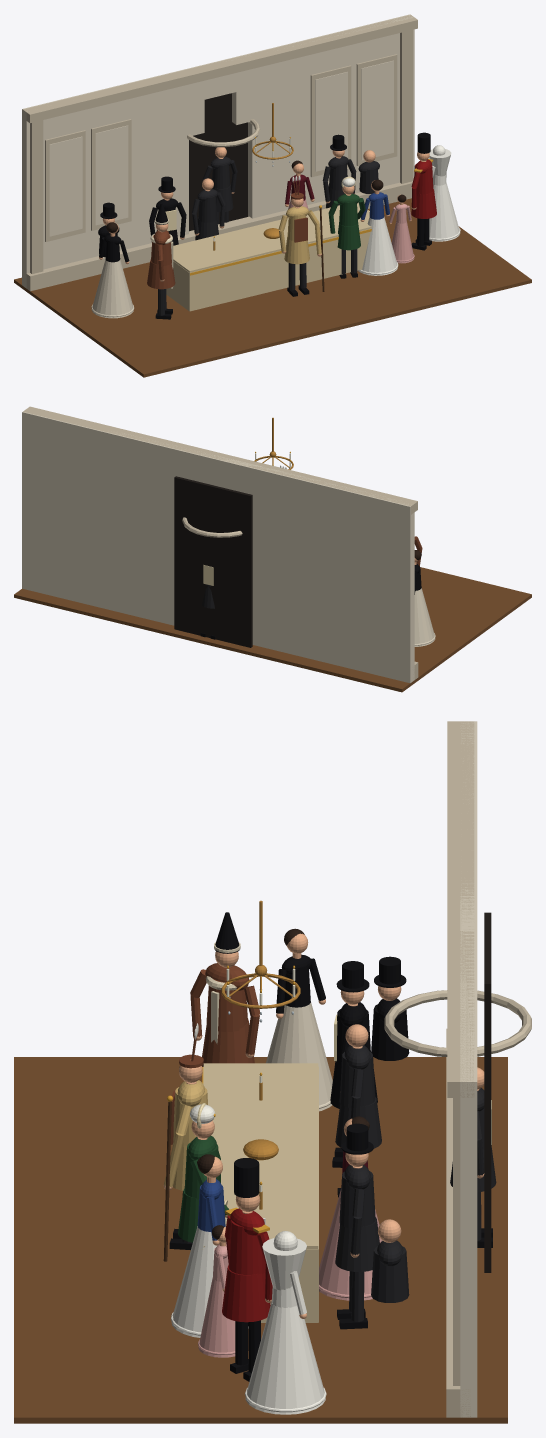
File: scan-fig61-at-the-opera-muse.glb
The picture shows the model from 3 angles, top to bottom: view 1: azimuth 30°, elevation 25°; view 2: azimuth 150°, elevation 25°; view 3: azimuth 270°, elevation 25°; orthographic projection. The views are drawn at different scales.
Parts seen in each view (by area): view 1: Floor, BackWallL, BackWallR, Cornice, TableClothFront, TableClothTop, ArchDark, Skirting, PanelIn_0, PanelIn_3, PanelIn_1, PanelIn_2 (+22 smaller); view 2: BackWallL, BackWallR, ArchDark, Floor, Cornice, BackWallTopC, LeftWoman_skirt, ArchTrim; view 3: Floor, TableClothTop, Cornice, BackWallR, VeiledWoman_skirt, LeftWoman_skirt, ArchDark, RightWoman_skirt, Skirting, ArchTrim, Pilaster_1, Guardsman_coatskirt (+15 smaller).
Boxes of the visible parts, x1=… form: Floor: x1=14, y1=198, x2=531, y2=377; BackWallL: x1=22, y1=69, x2=188, y2=288; BackWallR: x1=248, y1=14, x2=414, y2=218; Cornice: x1=23, y1=15, x2=417, y2=122; TableClothFront: x1=189, y1=228, x2=371, y2=311; TableClothTop: x1=173, y1=202, x2=371, y2=272; ArchDark: x1=189, y1=93, x2=247, y2=231; Skirting: x1=26, y1=179, x2=413, y2=291; PanelIn_0: x1=49, y1=136, x2=82, y2=236; PanelIn_3: x1=361, y1=60, x2=393, y2=160; PanelIn_1: x1=95, y1=125, x2=128, y2=225; PanelIn_2: x1=315, y1=72, x2=347, y2=171; BackWallL: x1=248, y1=464, x2=414, y2=683; BackWallR: x1=22, y1=412, x2=186, y2=625; ArchDark: x1=174, y1=476, x2=252, y2=647; Floor: x1=14, y1=567, x2=531, y2=692; Cornice: x1=23, y1=406, x2=417, y2=514; BackWallTopC: x1=184, y1=449, x2=251, y2=493; LeftWoman_skirt: x1=414, y1=588, x2=435, y2=646; ArchTrim: x1=182, y1=517, x2=242, y2=537; Floor: x1=14, y1=1057, x2=507, y2=1423; TableClothTop: x1=203, y1=1063, x2=318, y2=1249; Cornice: x1=447, y1=721, x2=474, y2=1097; BackWallR: x1=460, y1=931, x2=477, y2=1417; VeiledWoman_skirt: x1=245, y1=1302, x2=325, y2=1414; LeftWoman_skirt: x1=266, y1=1002, x2=332, y2=1111; ArchDark: x1=484, y1=912, x2=491, y2=1272; RightWoman_skirt: x1=171, y1=1226, x2=248, y2=1337; Skirting: x1=446, y1=1028, x2=470, y2=1417; ArchTrim: x1=384, y1=990, x2=531, y2=1056; Pilaster_1: x1=453, y1=1068, x2=462, y2=1385; Guardsman_coatskirt: x1=222, y1=1265, x2=270, y2=1322.
Bounding box in the file's own units: 7.6 × 3.36 × 4.61.
